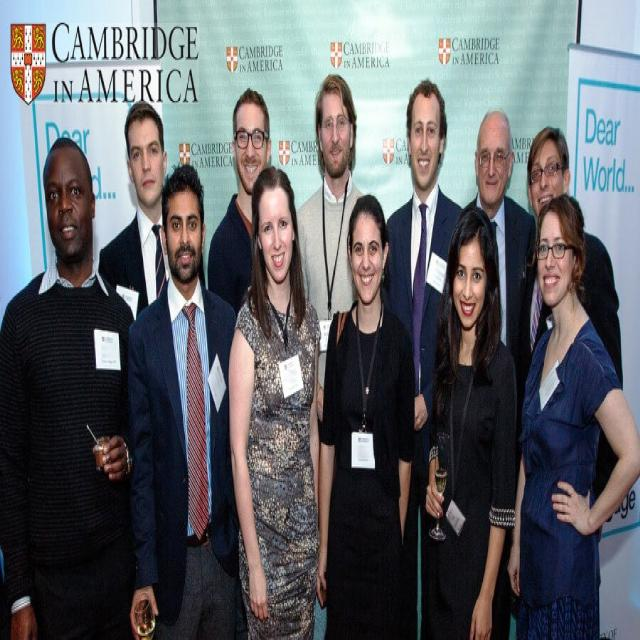body: (0, 135, 139, 640), (125, 159, 241, 639), (516, 192, 639, 639), (514, 122, 624, 546), (314, 192, 418, 640), (227, 158, 323, 638), (385, 80, 466, 638), (423, 204, 521, 638), (294, 74, 368, 461), (97, 98, 207, 324), (462, 115, 538, 348), (208, 87, 273, 321)
